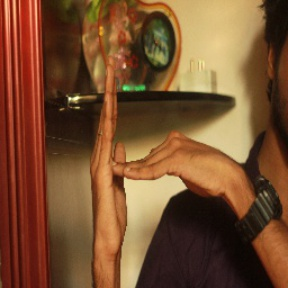Z: (80, 59, 238, 261)
